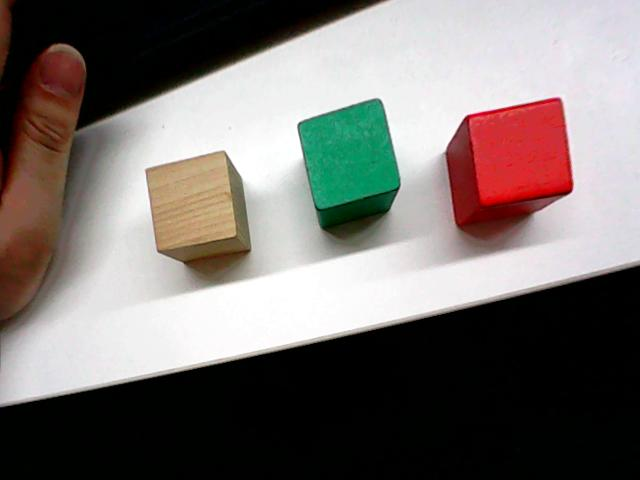green_box: (296, 94, 404, 236)
raw_box: (137, 148, 257, 268)
red_box: (447, 90, 576, 239)
